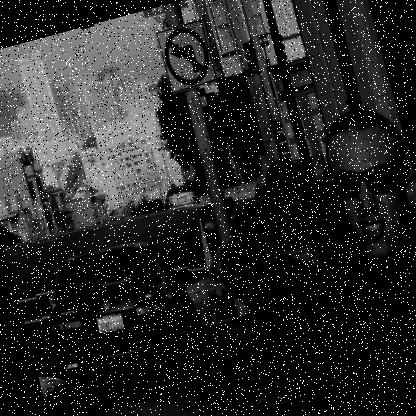Car: (28, 228, 219, 415), (37, 343, 182, 415), (158, 179, 202, 214)
